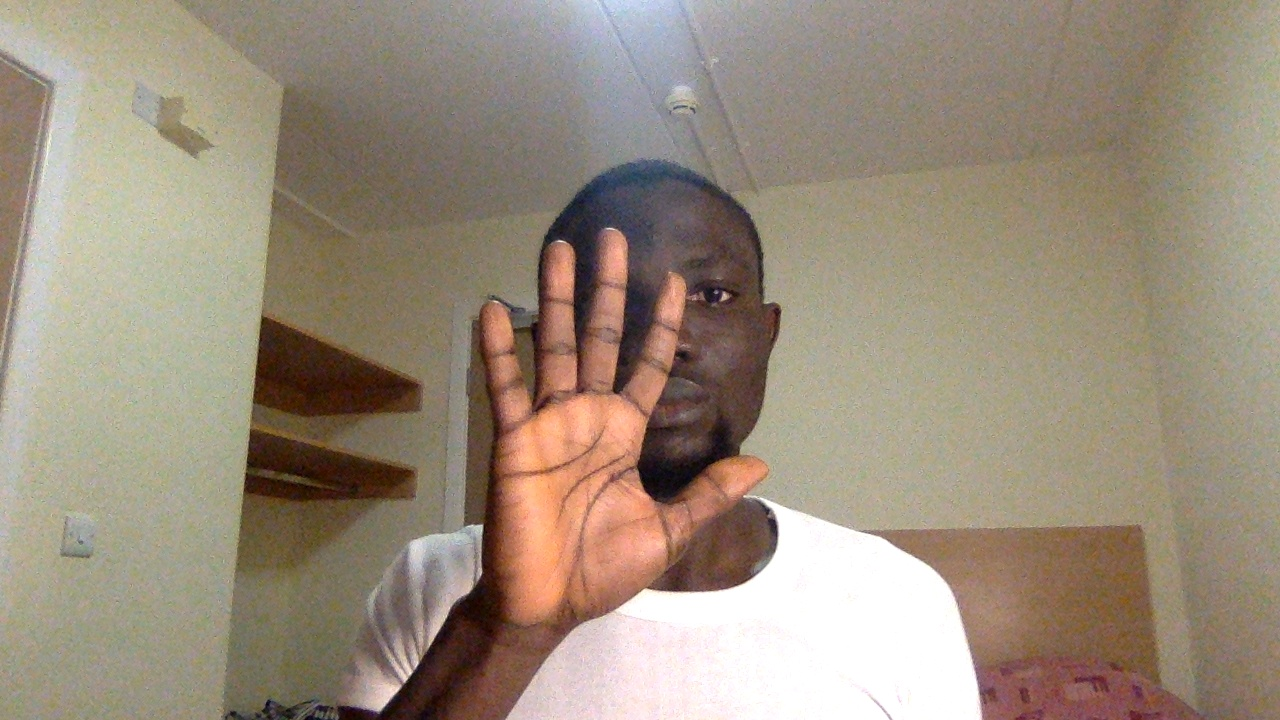Hello: (437, 217, 787, 678)
